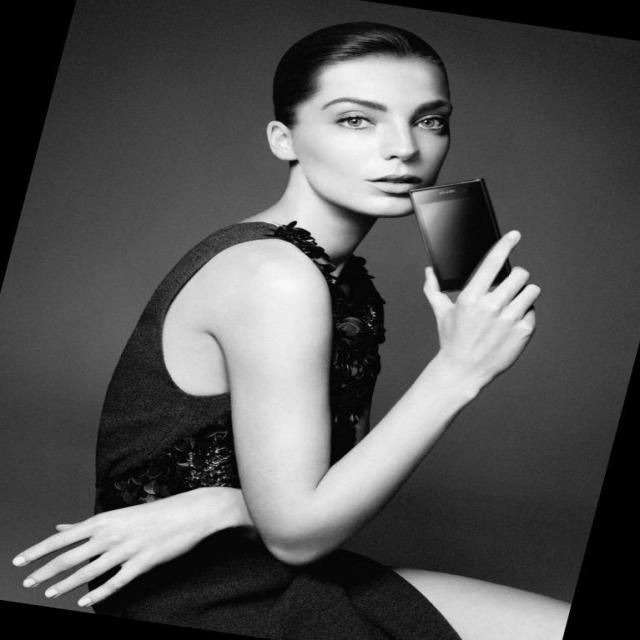phone: (410, 178, 508, 292)
